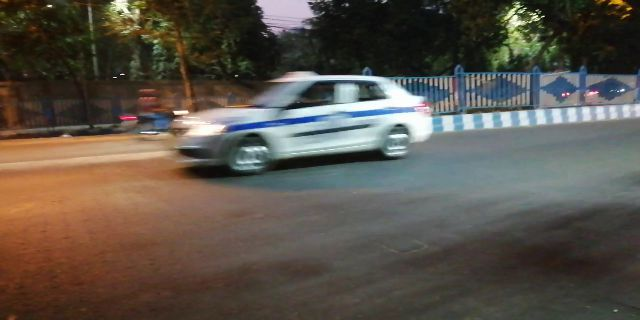Car: (169, 74, 441, 169)
